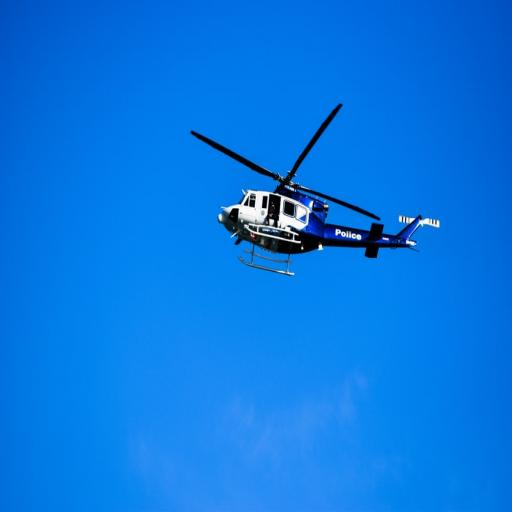helicopter: (168, 115, 442, 278), (168, 115, 169, 116)
